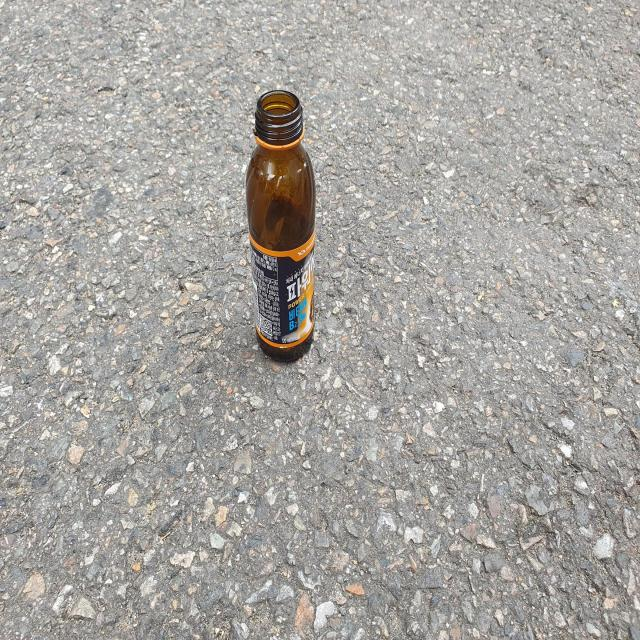glass: (246, 89, 315, 361)
